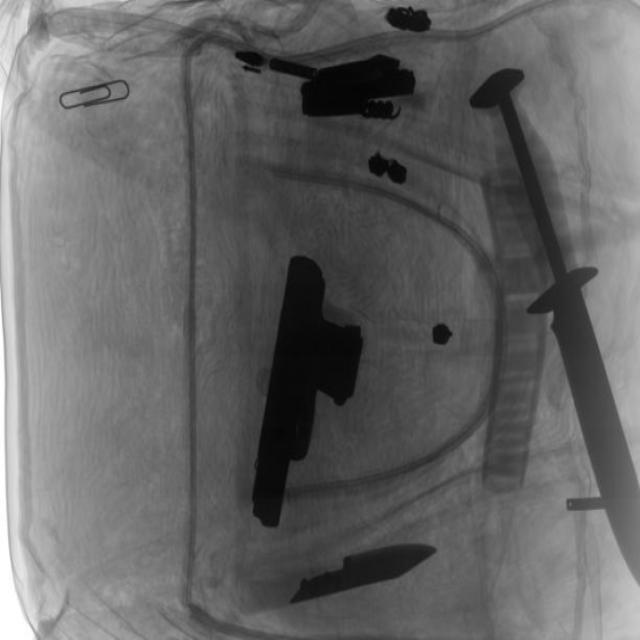GUN: (250, 250, 366, 532), (298, 51, 424, 127)
KNIFE: (285, 525, 440, 619)
